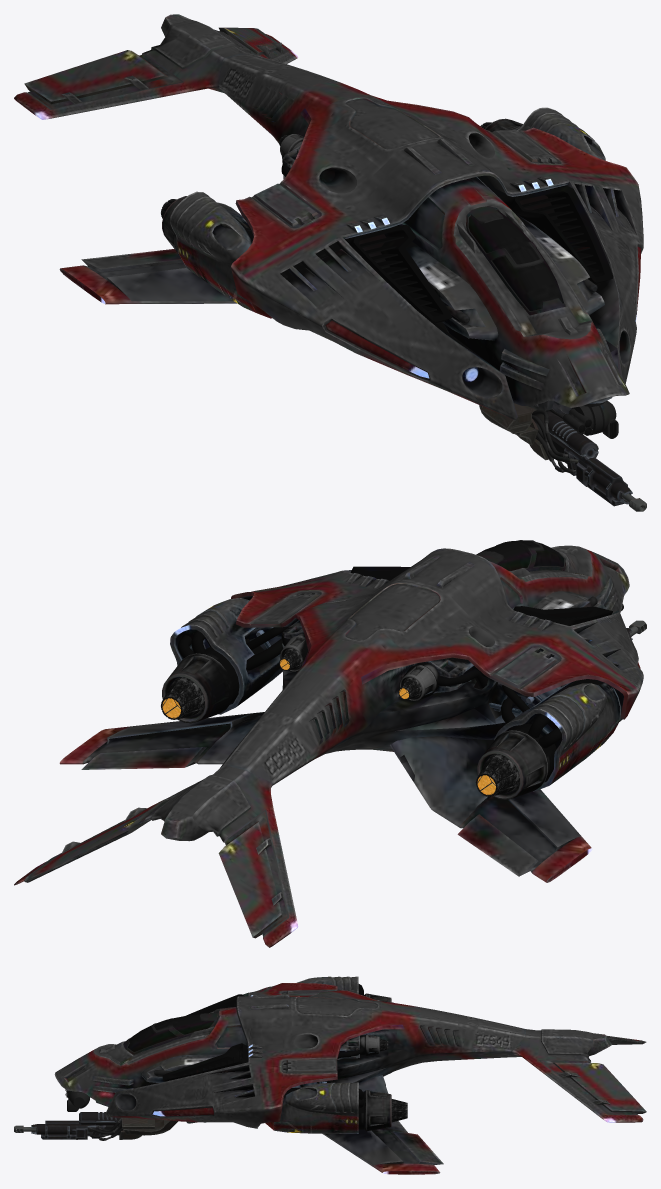
The model's file is fighter.glb.
The picture shows the model from 3 angles, top to bottom: view 1: azimuth 30°, elevation 25°; view 2: azimuth 150°, elevation 25°; view 3: azimuth 270°, elevation 25°; orthographic projection. The views are drawn at different scales.
Visible parts, largest first — view 1: plane body, engines, gun body, Shape001, gun turret; view 2: plane body, engines; view 3: plane body, engines, gun body, gun turret, Shape001.
Boxes of the visible parts, x1,y1,x2,y2 form: plane body: (14,14,643,420); engines: (162,107,605,318); gun body: (529,409,632,506); Shape001: (563,400,618,438); gun turret: (479,403,545,445); plane body: (14,540,643,947); engines: (162,598,620,799); plane body: (54,983,646,1174); engines: (265,976,391,1133); gun body: (31,1112,141,1140); gun turret: (122,1118,177,1135); Shape001: (65,1089,90,1111).
Size of the model in its own units: 180 by 77.74 by 323.
2 materials, 2 textured.
